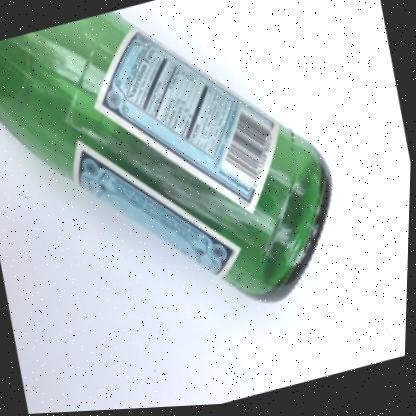Glass: (0, 12, 331, 304)
